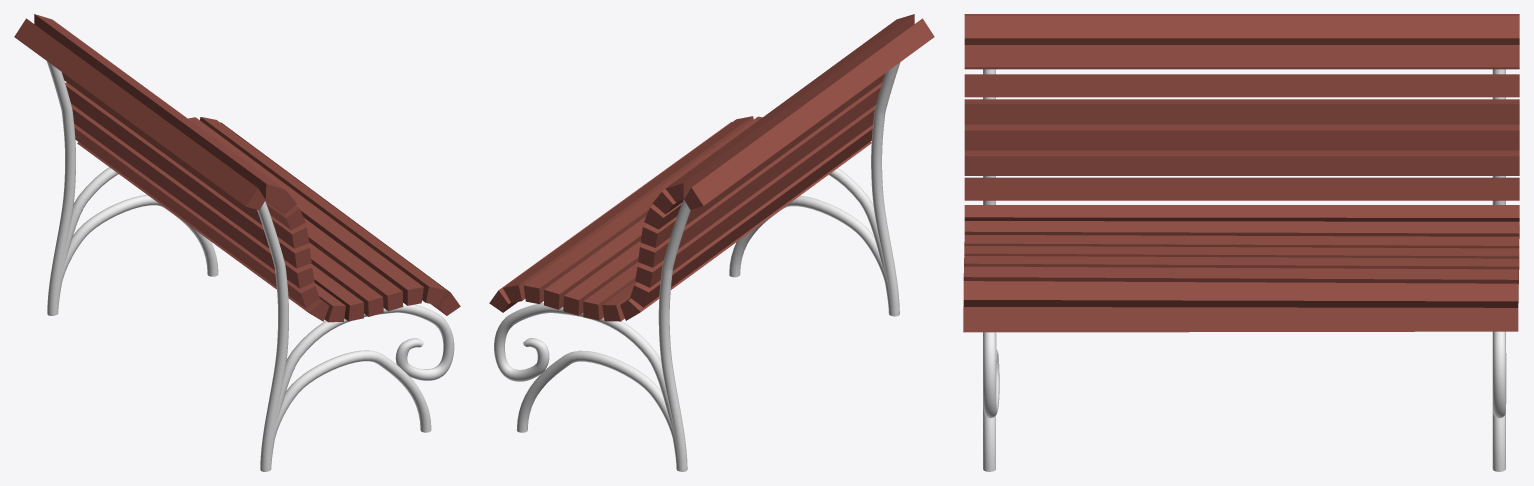
The model's file is Bench.fbx.
The picture shows the model from 3 angles, left to right: view 1: azimuth 30°, elevation 25°; view 2: azimuth 150°, elevation 25°; view 3: azimuth 270°, elevation 25°; orthographic projection. The views are drawn at different scales.
Visible parts, largest first — view 1: BézierCurve.001; view 2: BézierCurve.001; view 3: BézierCurve.001.
Part boxes in pixels (left/top/right/bottom): BézierCurve.001: left=14, top=14, right=460, bottom=471; BézierCurve.001: left=489, top=14, right=934, bottom=471; BézierCurve.001: left=963, top=14, right=1519, bottom=471.
Size of the model in its own units: 115 by 149 by 211.
